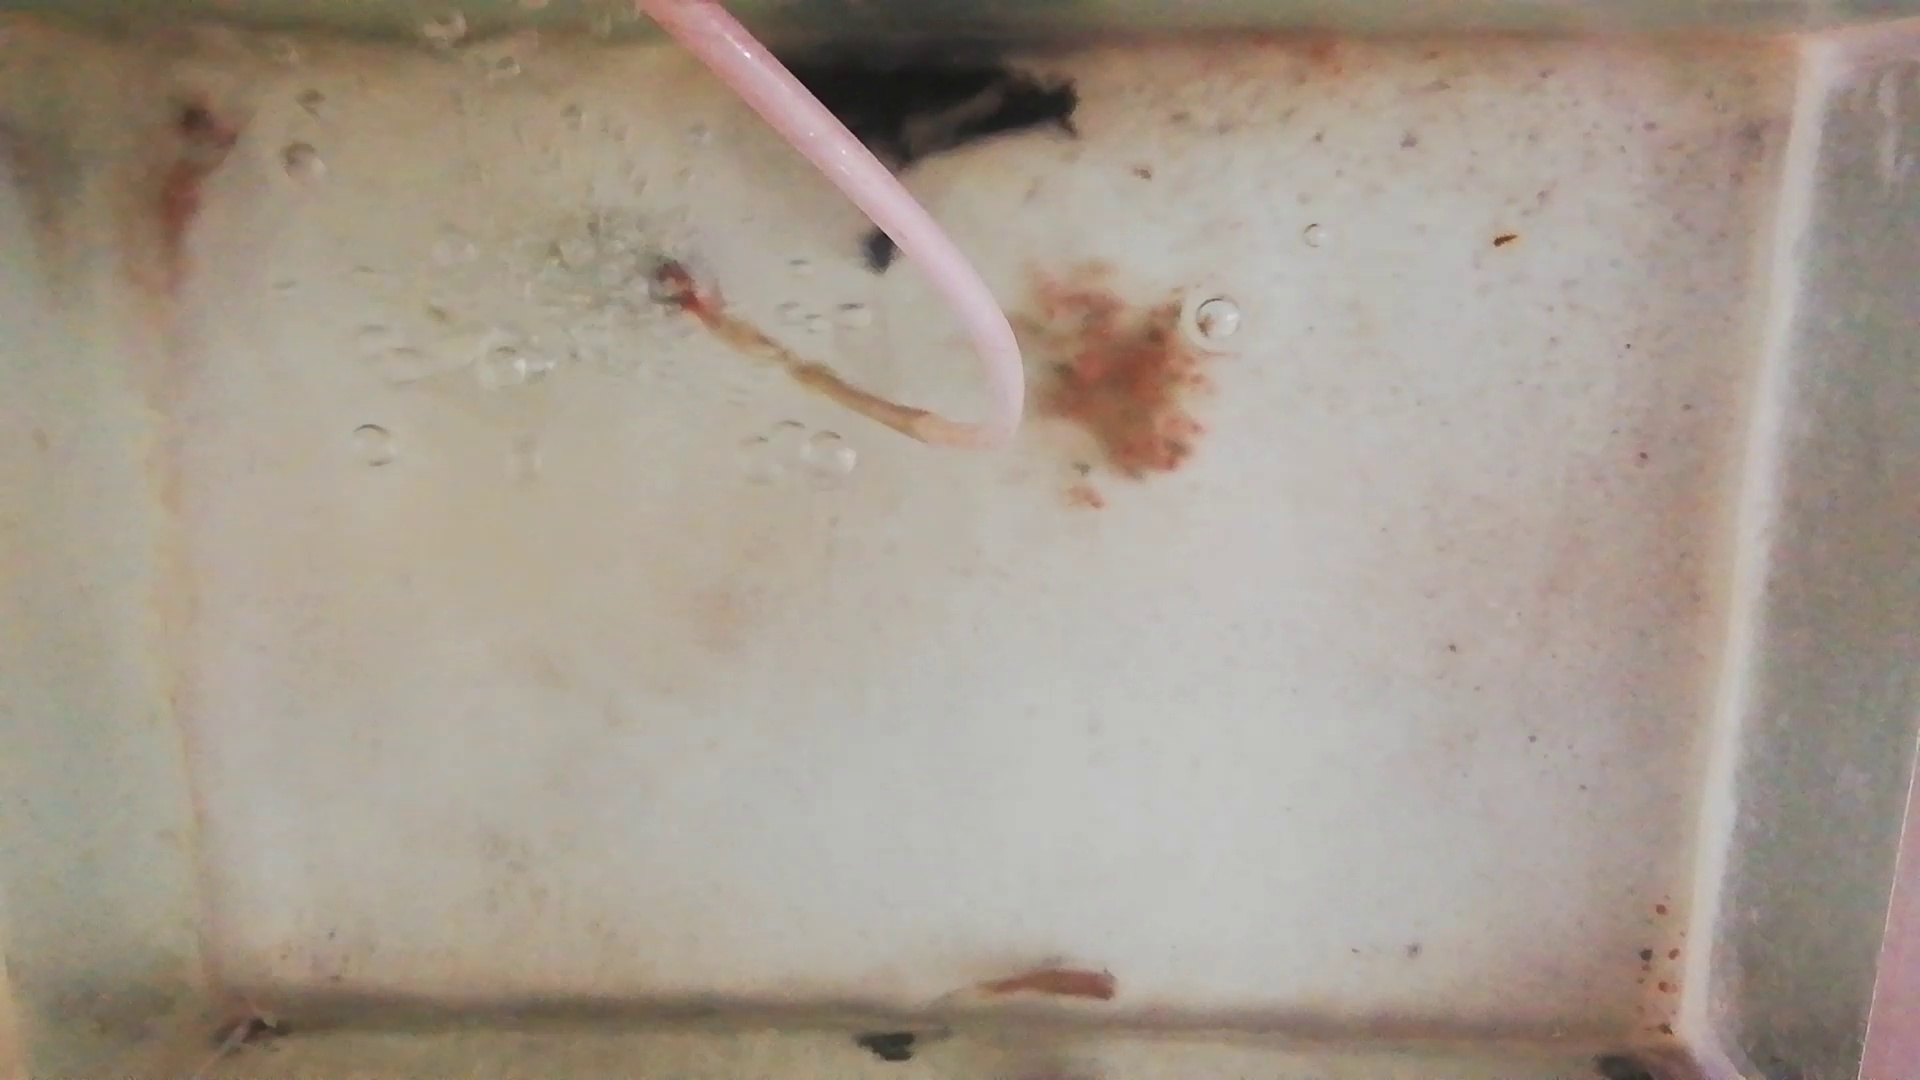fish: (149, 98, 236, 298), (978, 969, 1124, 1006)
